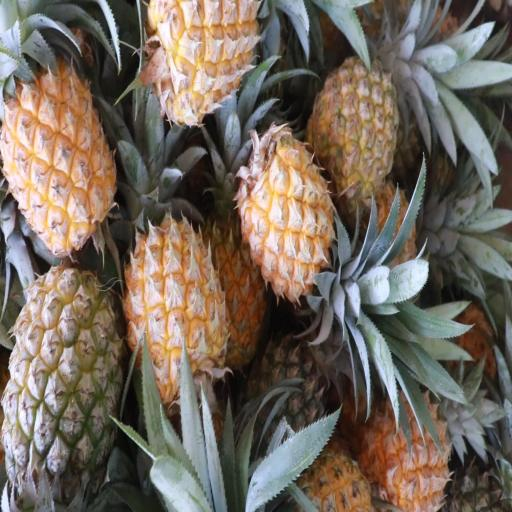------------------------------: (8, 272, 119, 500), (311, 60, 400, 204)
Pineapple - v8 v1: (4, 68, 114, 250), (126, 216, 226, 392), (241, 133, 332, 303), (146, 0, 257, 124), (369, 385, 455, 512), (207, 223, 266, 371)
